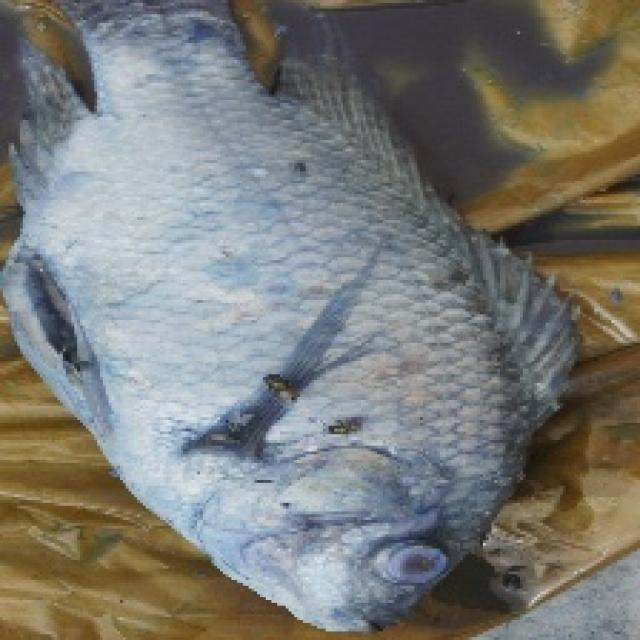Non-Fresh: (52, 94, 557, 640)
